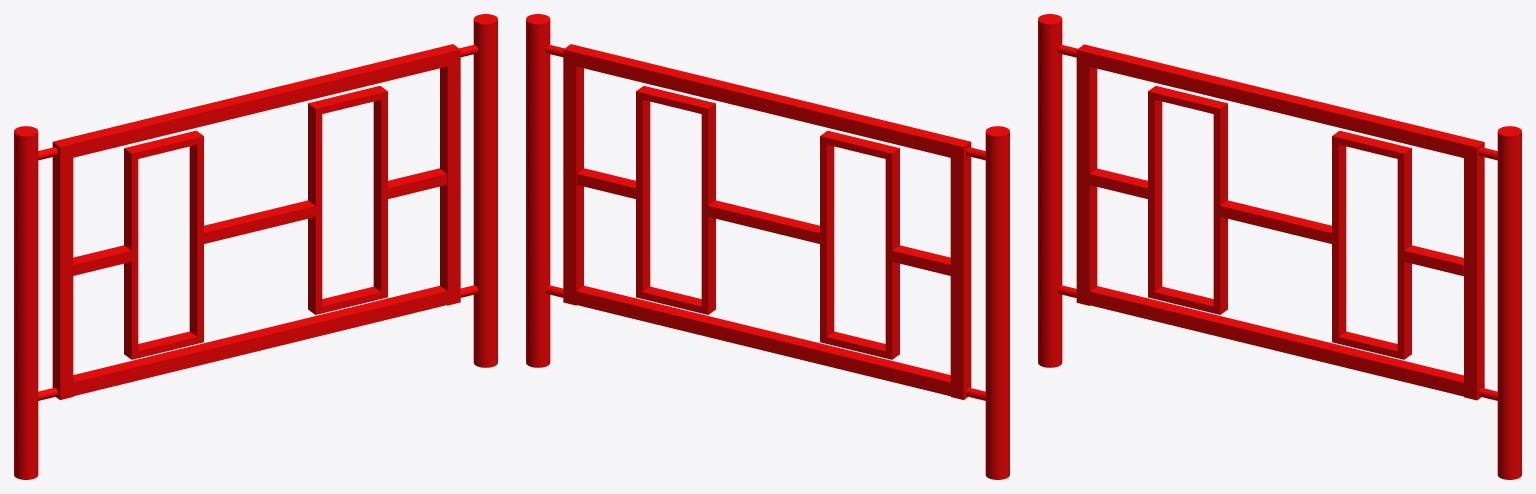
The model's file is fence.fbx.
The picture shows the model from 3 angles, left to right: view 1: azimuth 30°, elevation 25°; view 2: azimuth 150°, elevation 25°; view 3: azimuth 330°, elevation 25°; orthographic projection.
Parts seen in each view (by area): view 1: Protection; view 2: Protection; view 3: Protection.
Part boxes in pixels (x1,y1,x2,y2): Protection: [14, 14, 497, 479]; Protection: [526, 14, 1009, 479]; Protection: [1038, 14, 1521, 479].
Bounding box in the file's own units: 366 × 250 × 16.
